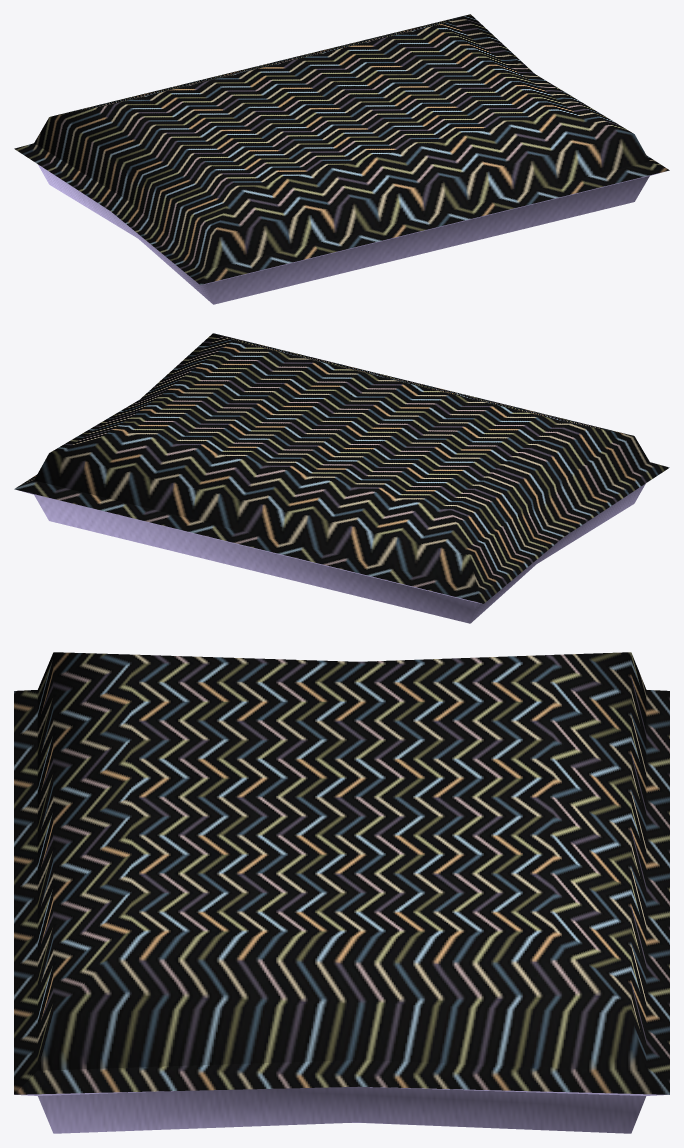
The model's file is Pillow_F_2.FBX.
3 views of the same model, one above another, from view 1: azimuth 30°, elevation 25°; view 2: azimuth 150°, elevation 25°; view 3: azimuth 270°, elevation 25° (orthographic). The views are drawn at different scales.
Visible parts, largest first — view 1: Pillow; view 2: Pillow; view 3: Pillow.
Part boxes in pixels (x1=…): Pillow: x1=14, y1=14, x2=669, y2=304; Pillow: x1=14, y1=333, x2=669, y2=623; Pillow: x1=14, y1=652, x2=669, y2=1133.
Bounding box in the file's own units: 194 × 41.64 × 133.
